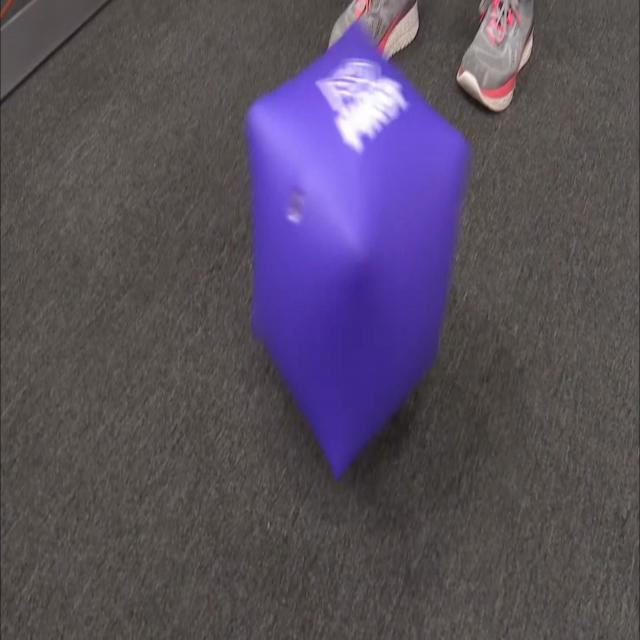frc_cube: (245, 17, 468, 486)
